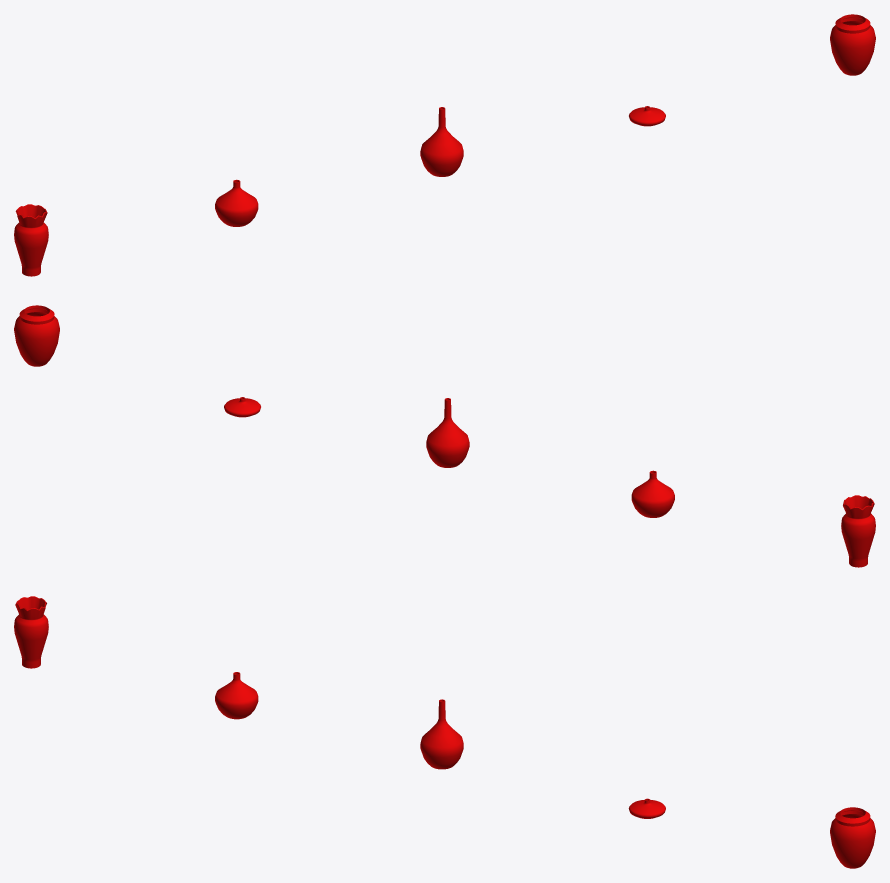
File: vase_shards_grp.fbx
The picture shows the model from 3 angles, top to bottom: view 1: azimuth 30°, elevation 25°; view 2: azimuth 150°, elevation 25°; view 3: azimuth 330°, elevation 25°; orthographic projection.
Visible parts, largest first — view 1: vase_open_shard_22, vase_open_shard_21, vase_decorative_shard_26, vase_tall_shard_12; view 2: vase_open_shard_7; view 3: vase_open_shard_21, vase_decorative_shard_26, vase_open_shard_7.
Boxes of the visible parts, x1,y1,x2,y2 form: vase_open_shard_22: [830, 22, 855, 63]; vase_open_shard_21: [853, 22, 875, 62]; vase_decorative_shard_26: [28, 210, 48, 250]; vase_tall_shard_12: [436, 107, 454, 151]; vase_open_shard_7: [14, 305, 46, 345]; vase_open_shard_21: [834, 816, 865, 856]; vase_decorative_shard_26: [15, 607, 41, 641]; vase_open_shard_7: [843, 807, 875, 843].
Size of the model in its own units: 417 by 29.85 by 19.5.
